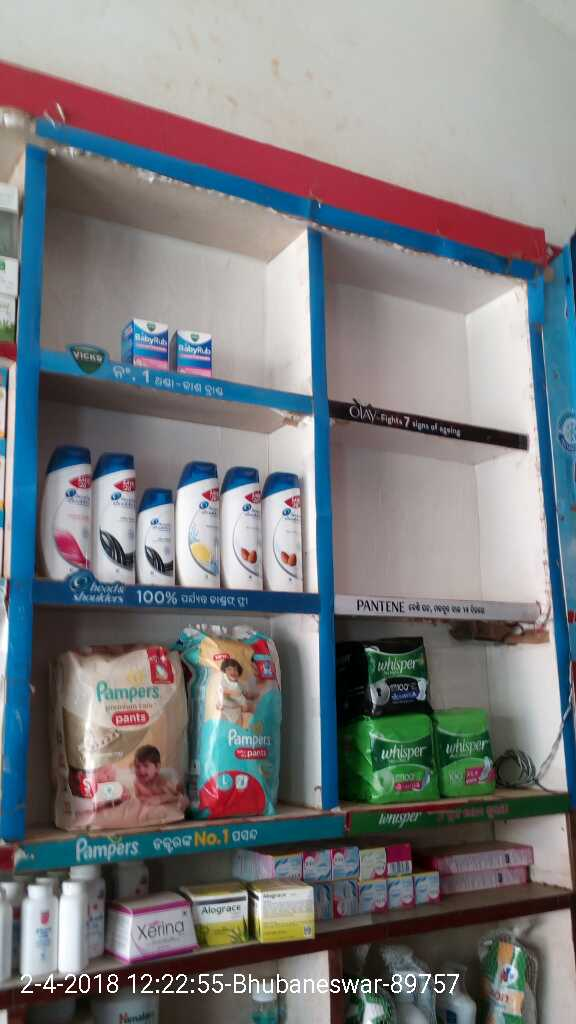vicks: (132, 318, 174, 373), (175, 327, 213, 373)
